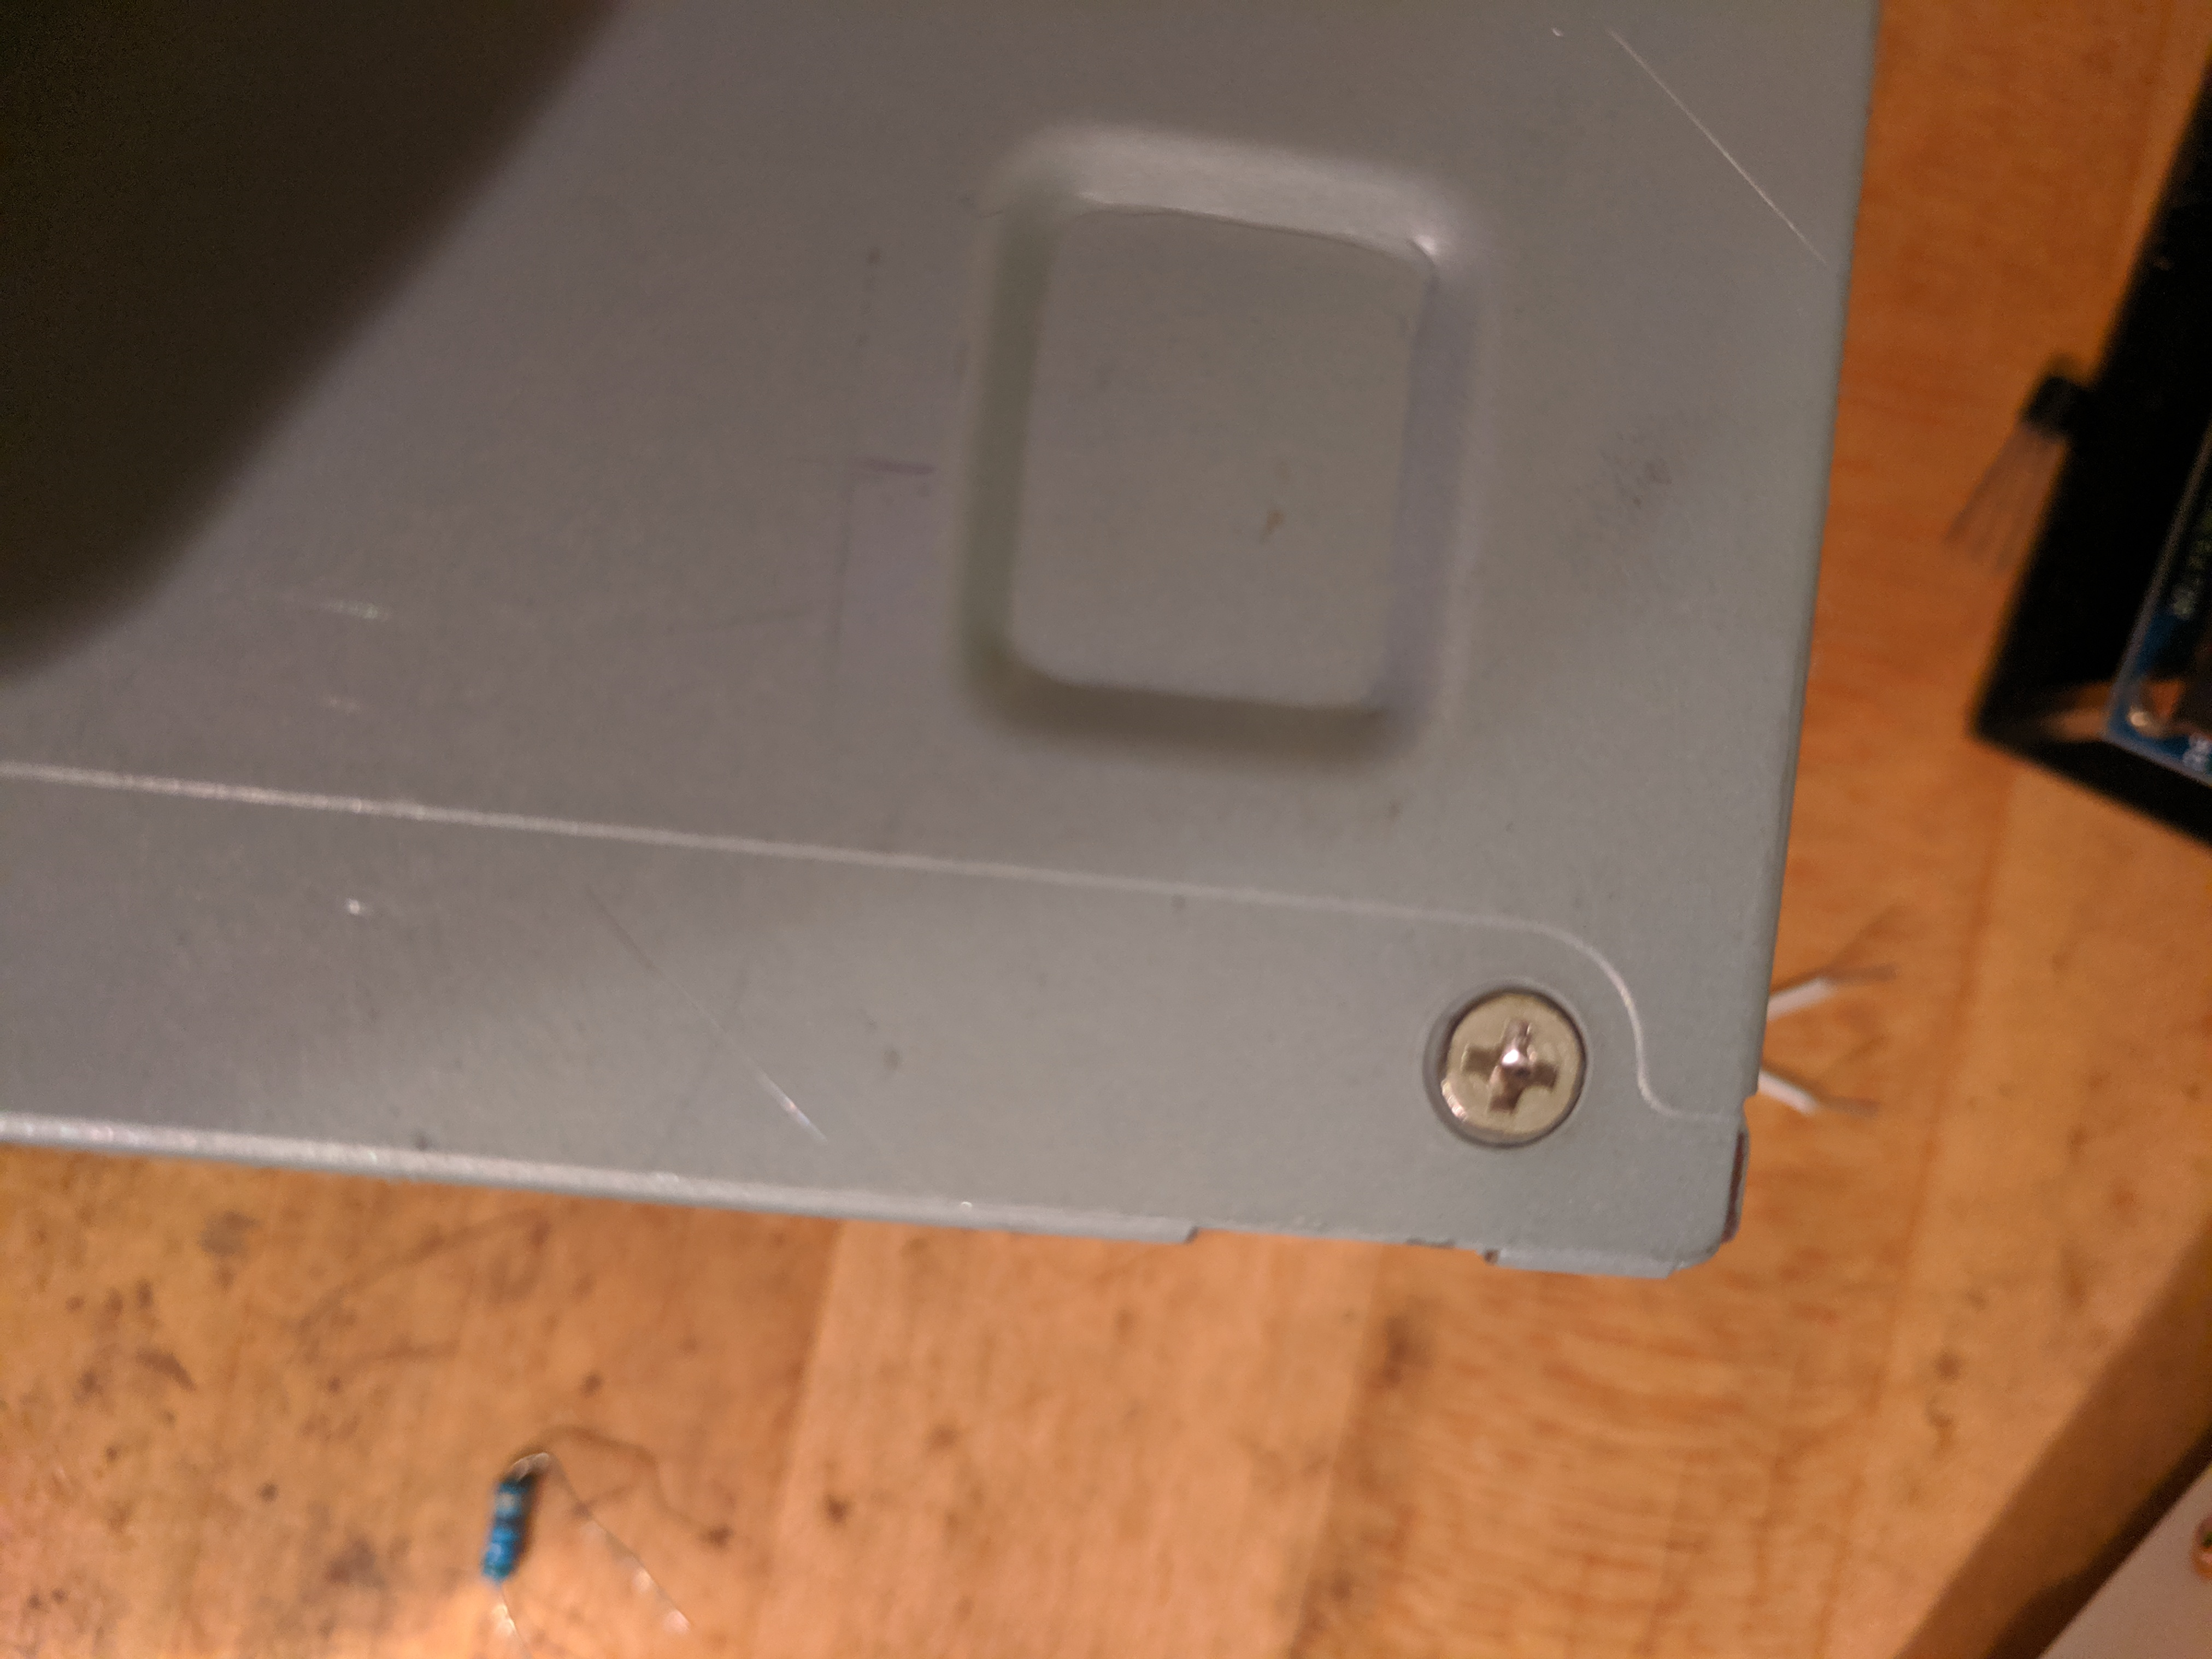cross_recessed_screw: (1111, 660, 1231, 788)
